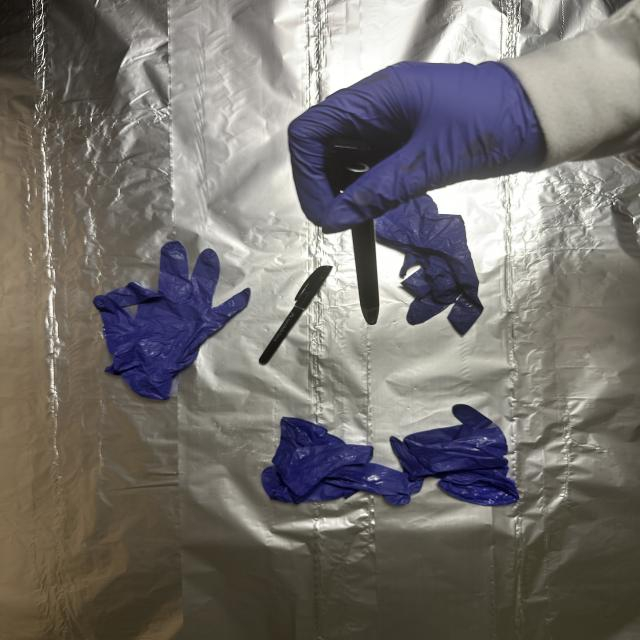gloves_contaminated: (288, 62, 546, 232)
